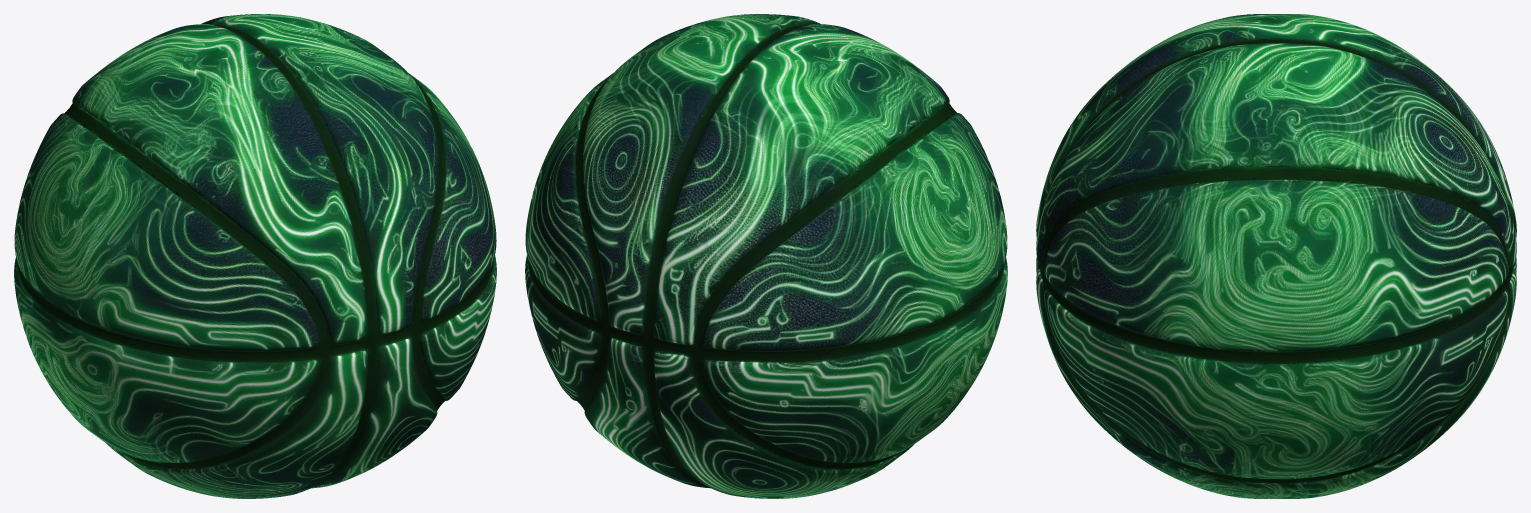
File: basketball-verde.glb
3 views of the same model, side by side, from view 1: azimuth 30°, elevation 25°; view 2: azimuth 150°, elevation 25°; view 3: azimuth 270°, elevation 25° (orthographic).
Parts seen in each view (by area): view 1: node_0; view 2: node_0; view 3: node_0.
Boxes of the visible parts, <box> form: node_0: <box>14,14,496,498</box>; node_0: <box>525,14,1007,498</box>; node_0: <box>1036,14,1516,498</box>.
Size of the model in its own units: 1.18 by 1.18 by 1.17.
Materials: 1 (1 with a texture image).
